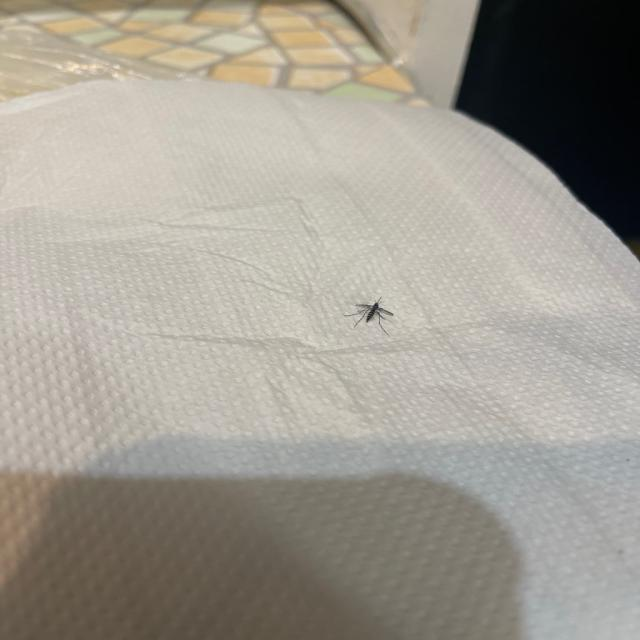albopictus: (341, 292, 401, 337)
